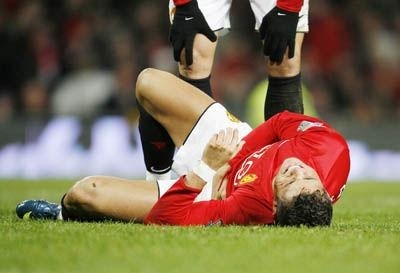falling: (7, 59, 359, 235)
